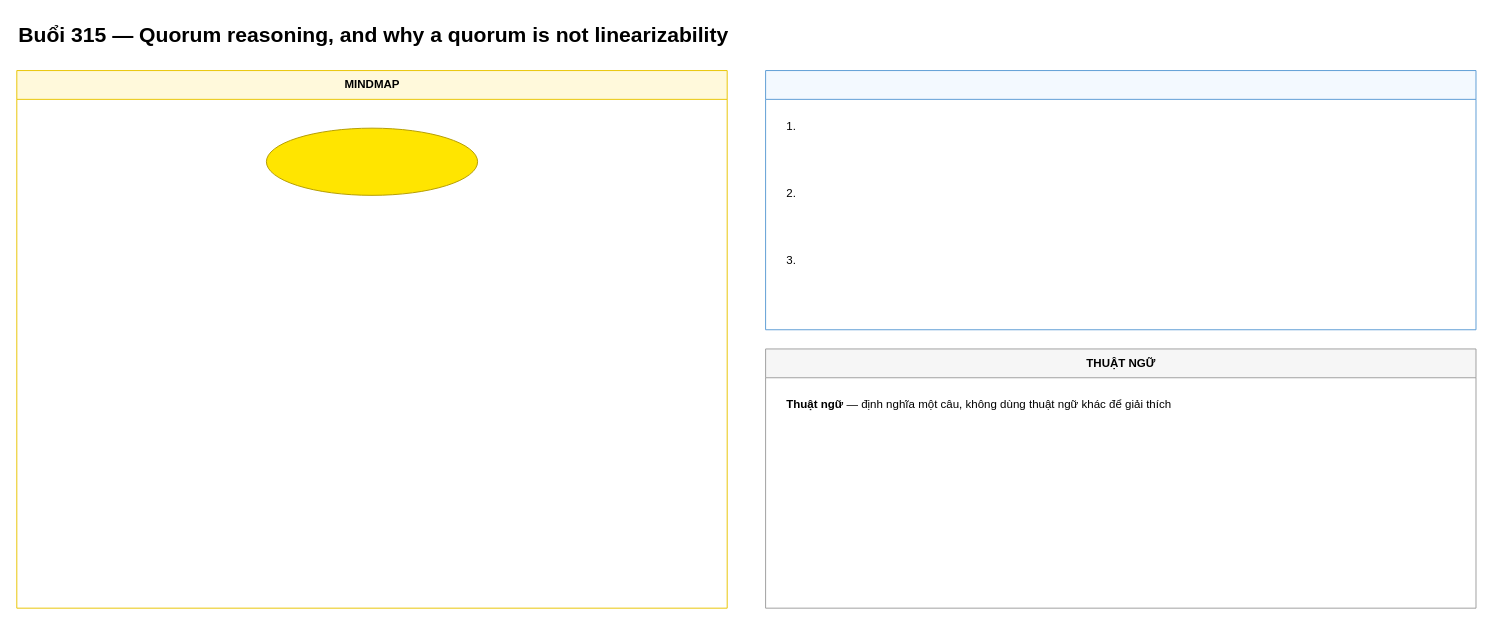
Some shapes in this 1493 by 625 pixel diagram are drawn without their labels. The box of each missing label's shape, as (x1, y1, x2, y2) in pixels:
KEY TAKEAWAY — ba điều phải nhớ: (765, 70, 1476, 330)
Quorum reasoning, and why a quorum is not linearizability: (265, 127, 478, 195)
